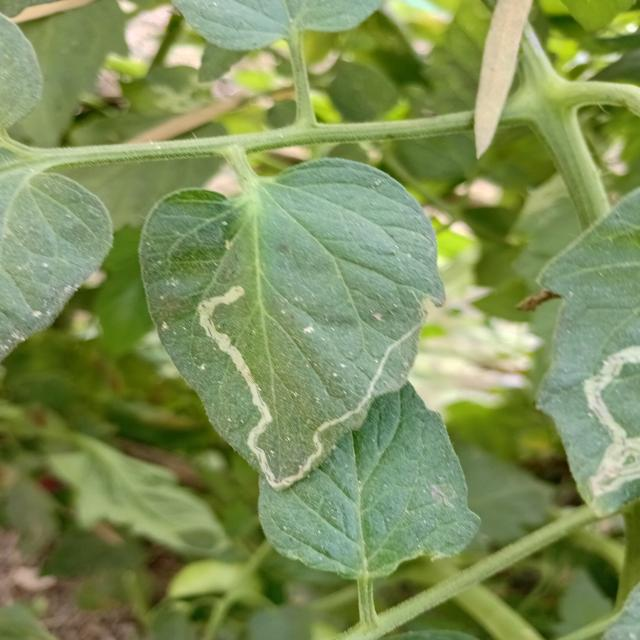Tuta absoluta: (192, 229, 455, 495), (583, 346, 640, 496)
